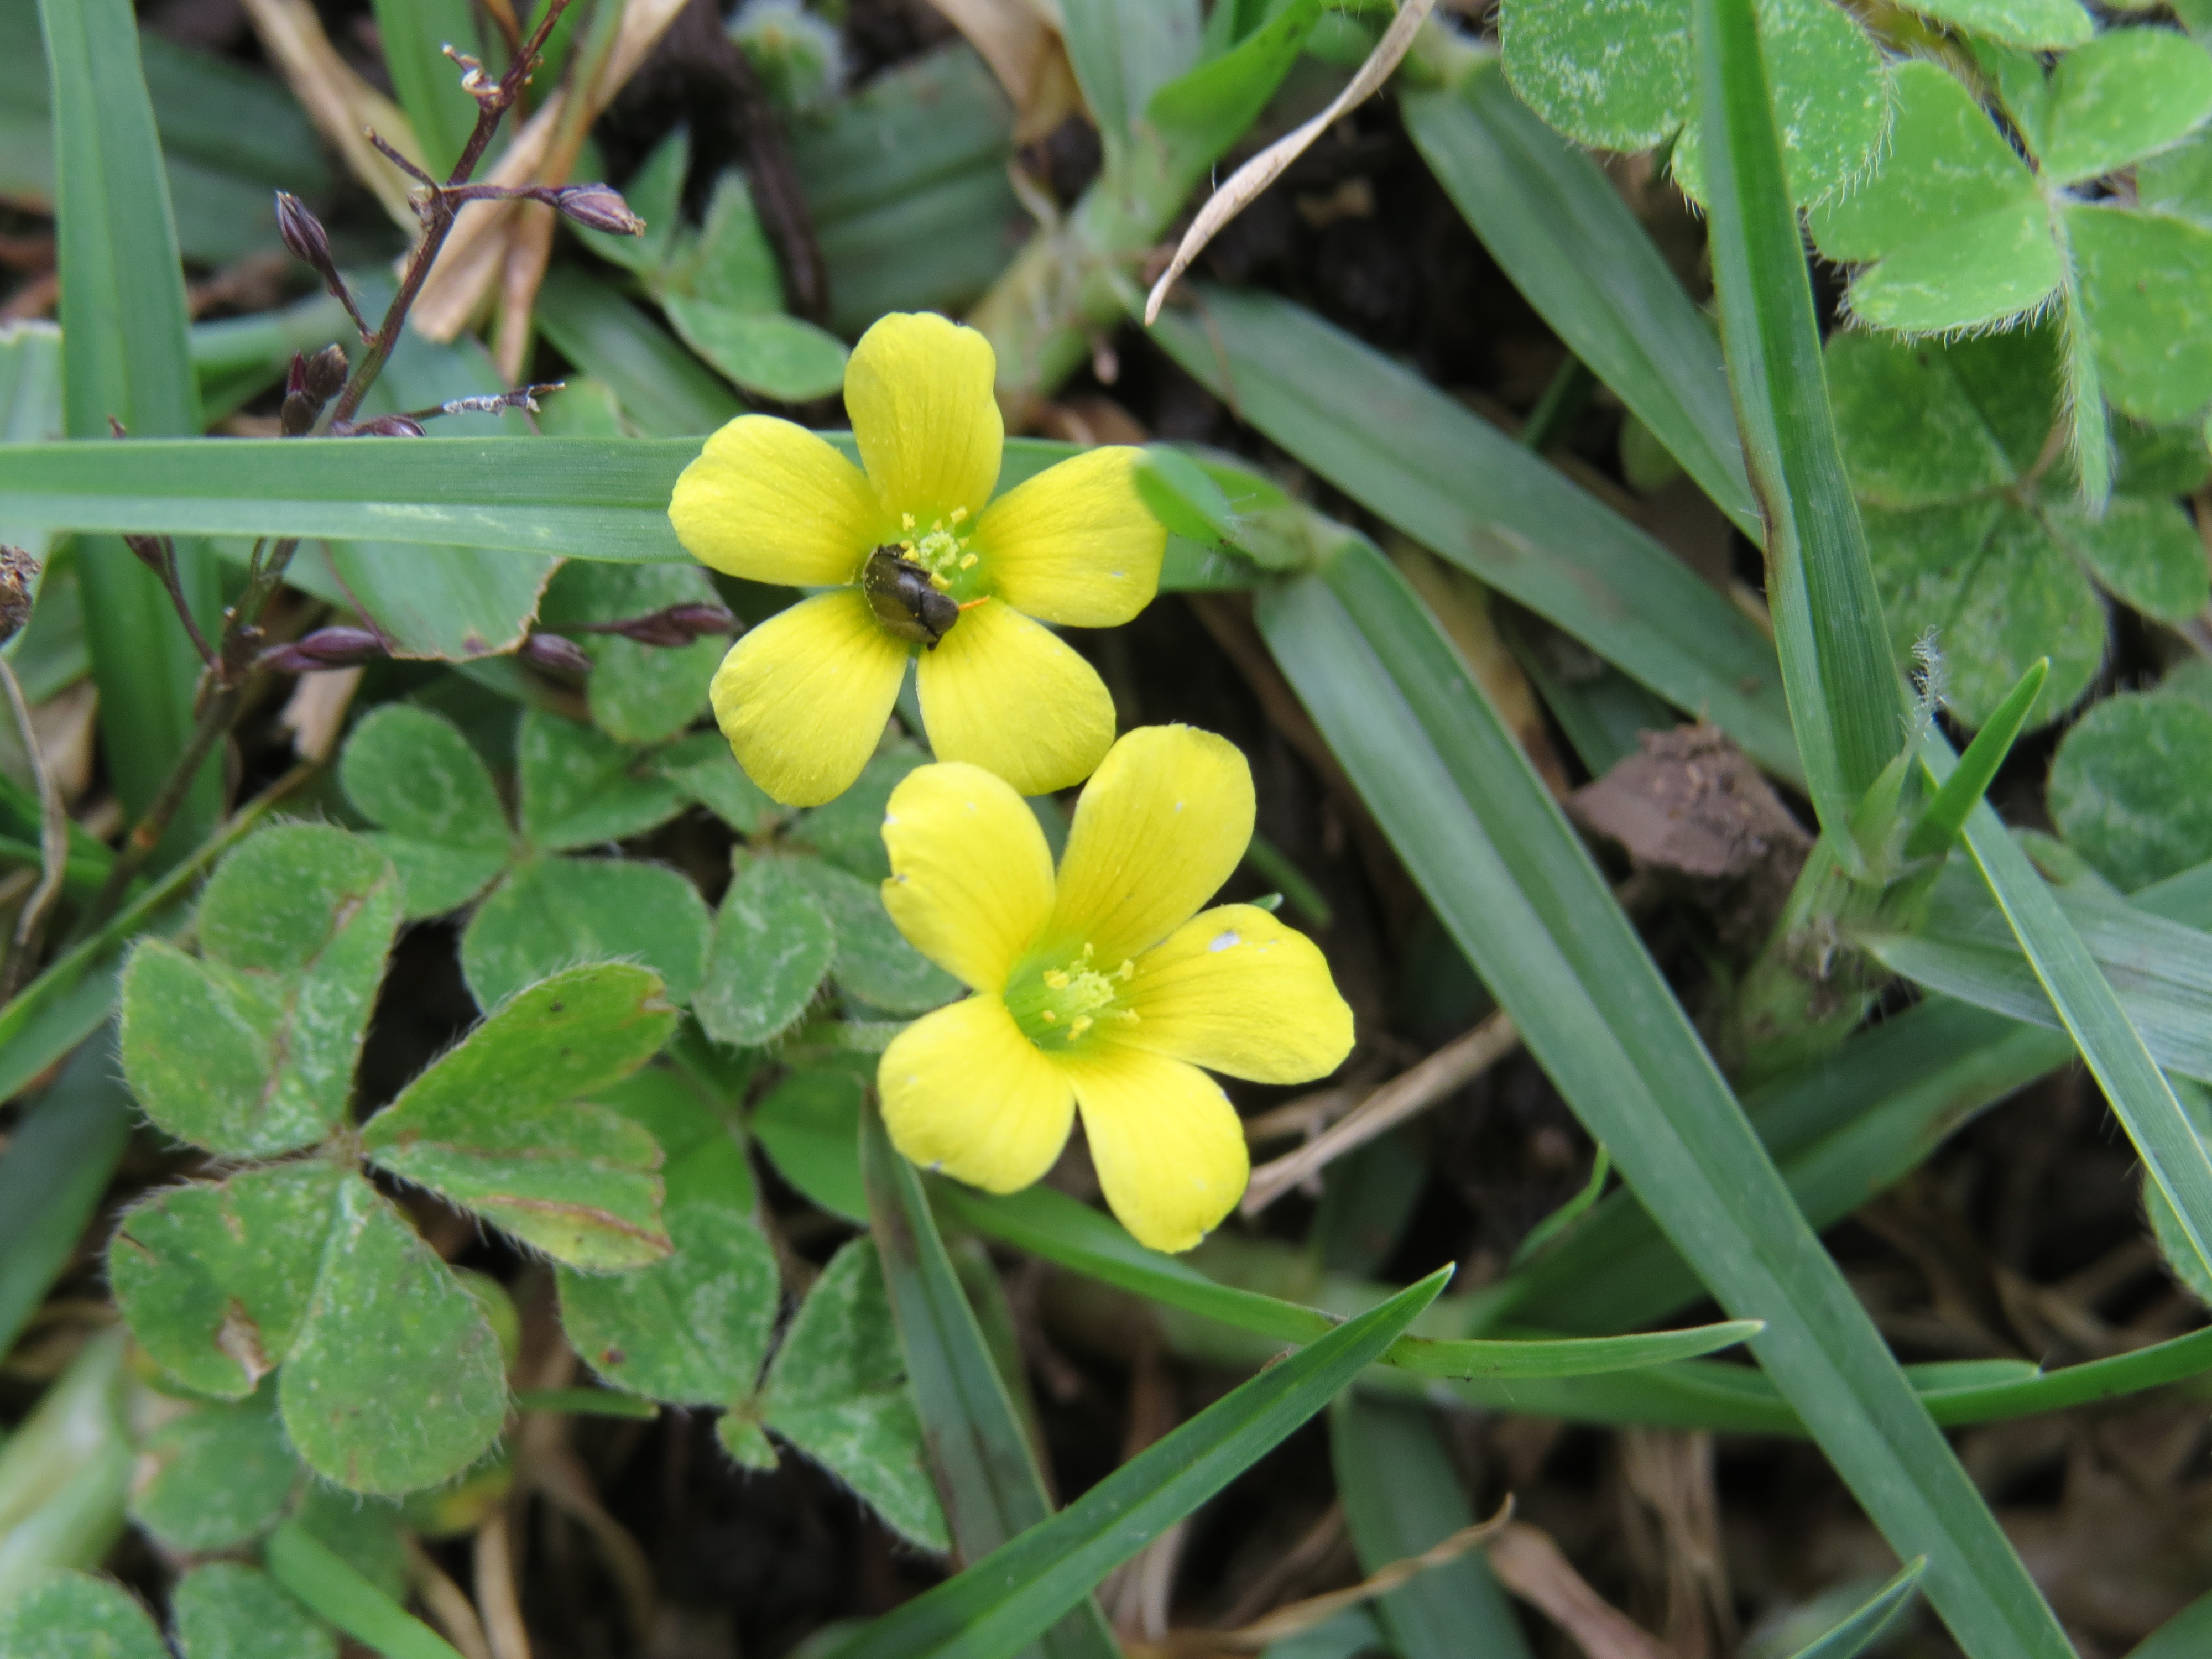oxalis: (30, 802, 690, 1532), (1467, 26, 2212, 368)
